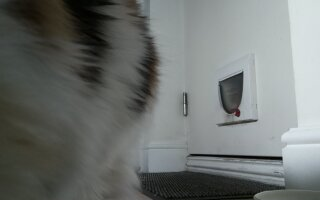clara: (1, 1, 162, 197)
